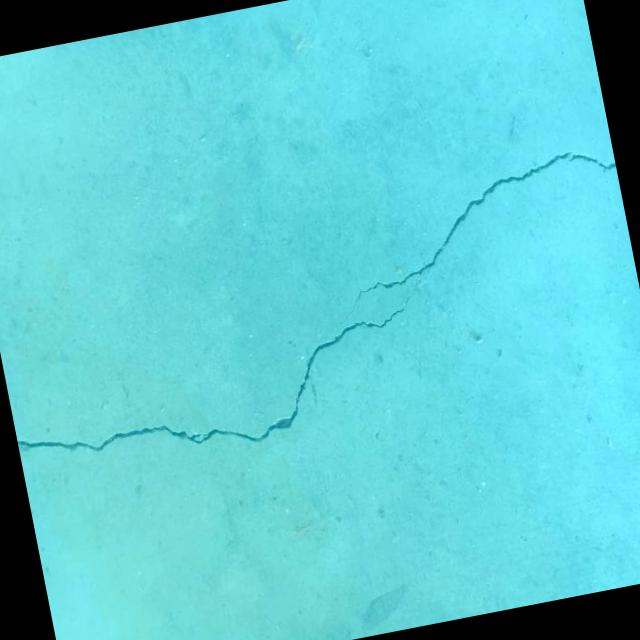crack: (0, 142, 640, 489)
